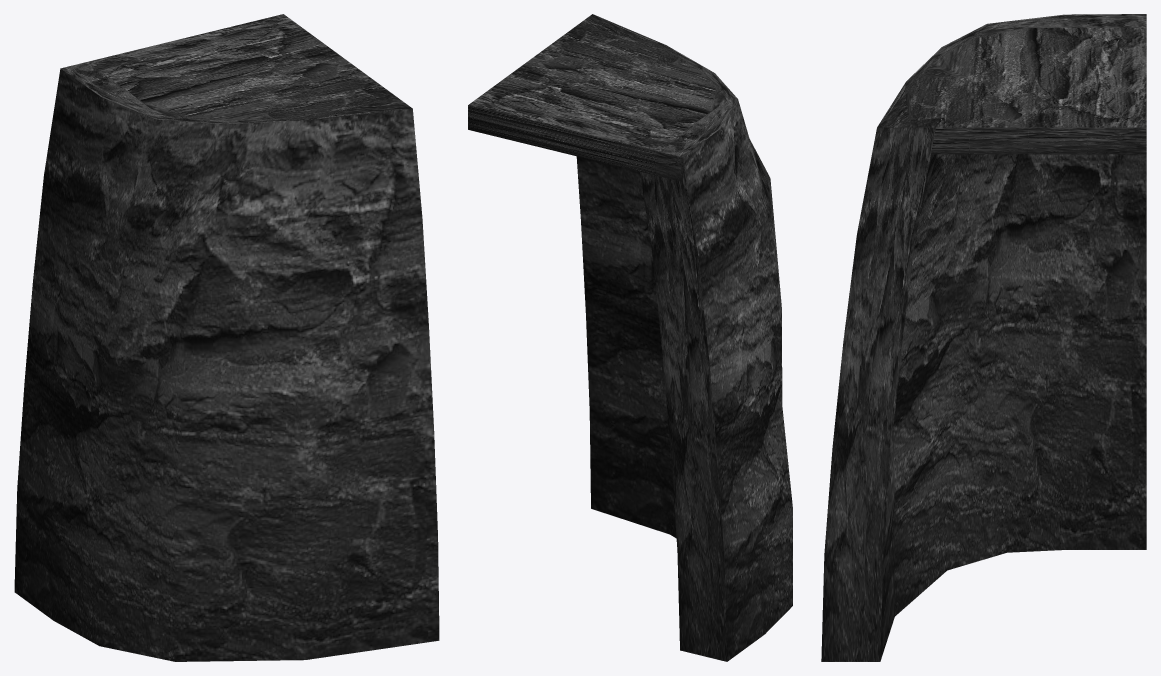
File: Wall_corner_new 1.fbx
3 renders of one model, left to right at view 1: azimuth 30°, elevation 25°; view 2: azimuth 150°, elevation 25°; view 3: azimuth 270°, elevation 25°, orthographic. The views are drawn at different scales.
Visible parts, largest first — view 1: Ecke, Dach ecke; view 2: Ecke, Dach ecke; view 3: Ecke, Dach ecke.
Part boxes in pixels (x1=…): Ecke: x1=14, y1=68, x2=439, y2=661; Dach ecke: x1=60, y1=14, x2=412, y2=122; Ecke: x1=576, y1=15, x2=792, y2=661; Dach ecke: x1=468, y1=14, x2=733, y2=181; Ecke: x1=821, y1=14, x2=1146, y2=661; Dach ecke: x1=877, y1=14, x2=1146, y2=154.
Size of the model in its own units: 5.49 by 10 by 5.51.
Materials: 2 (2 with a texture image).
